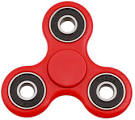fidget_spinner: (1, 0, 134, 117)
